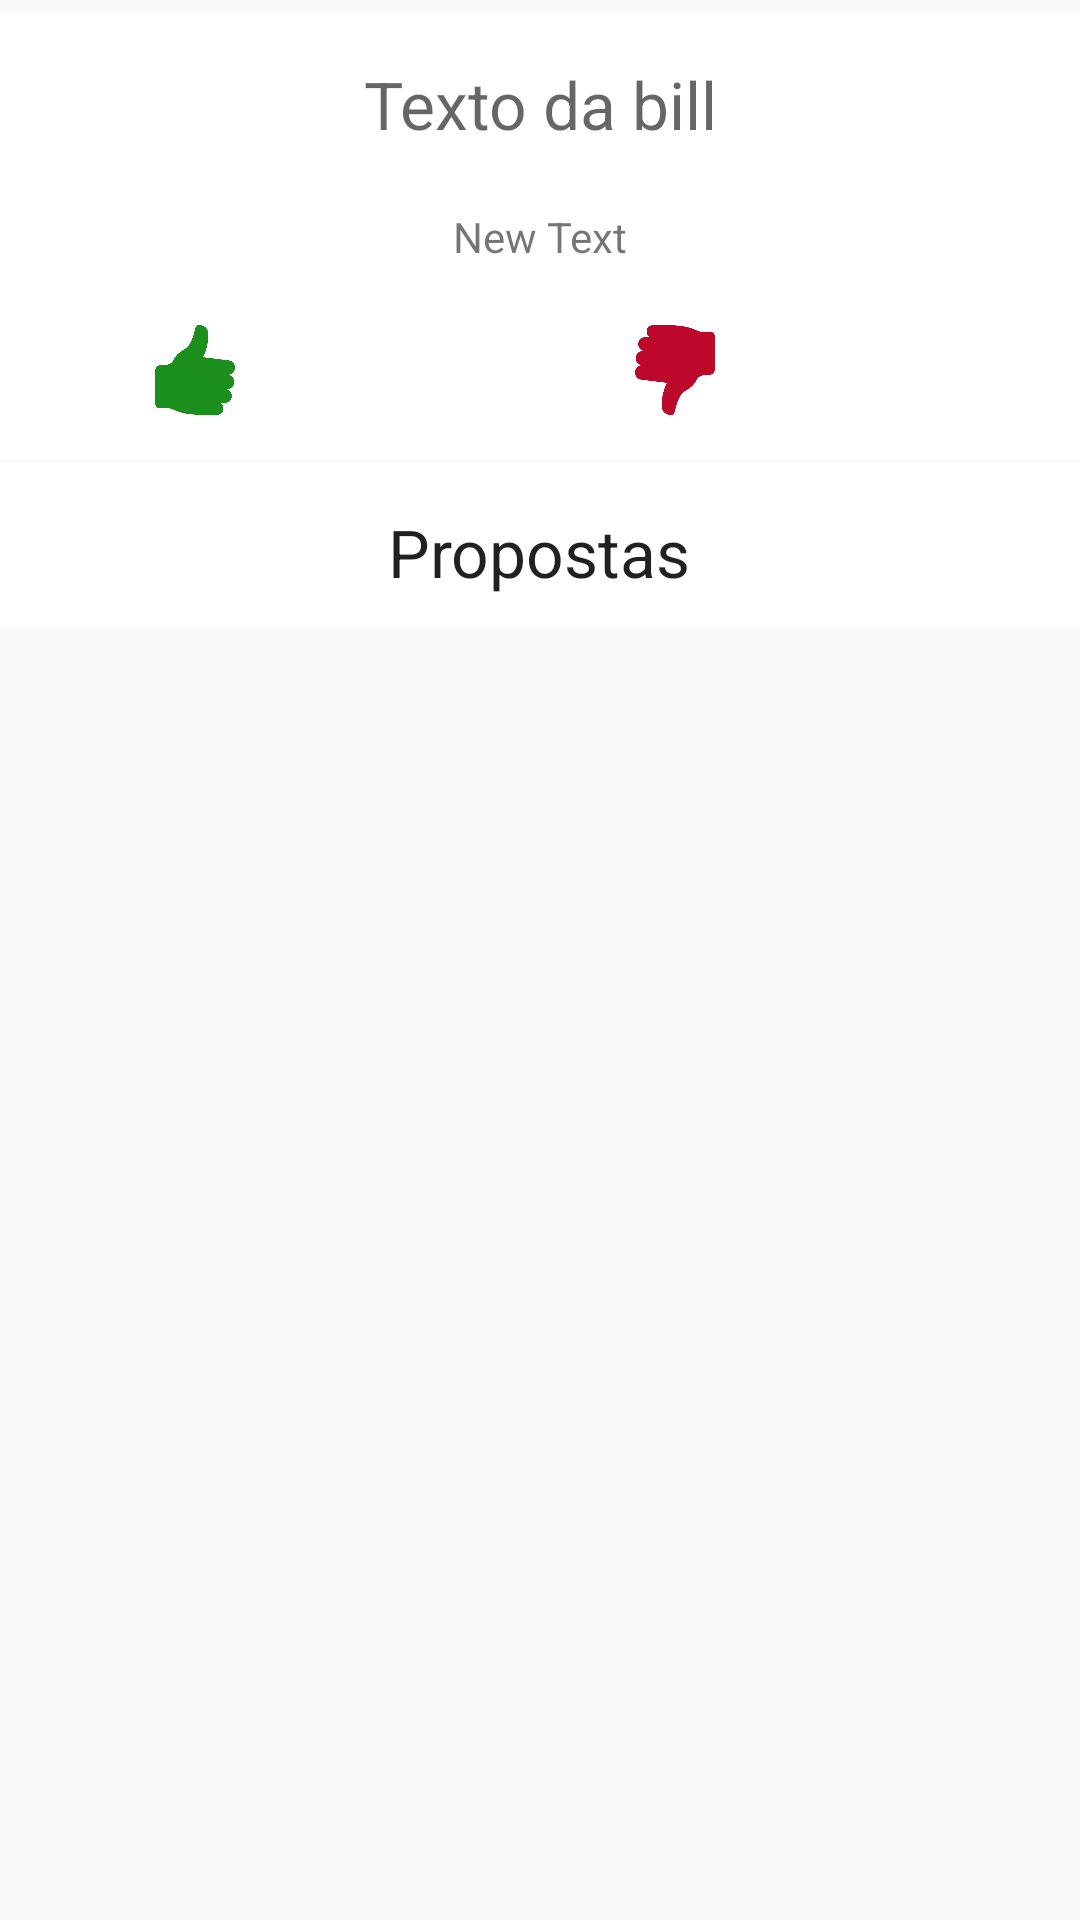

Icons on this 1080*1920 Android screen, each with its box as (x1, y1, x2, y2):
dislike: (635, 325, 715, 415)
like: (155, 325, 235, 415)
